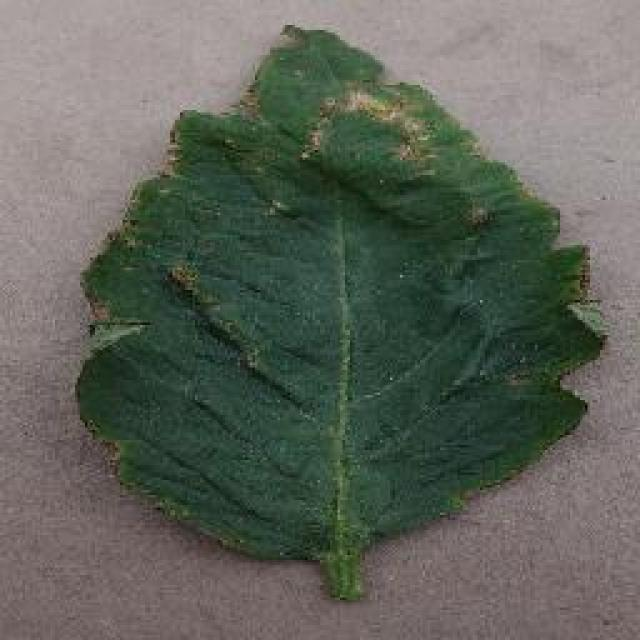Tomato bacterial spot leaf: (86, 28, 602, 590)
